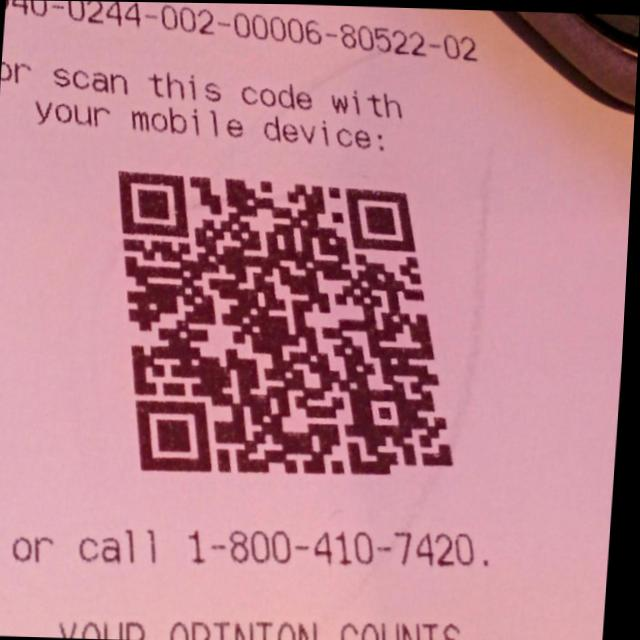QR_CODE: (84, 136, 498, 510)
